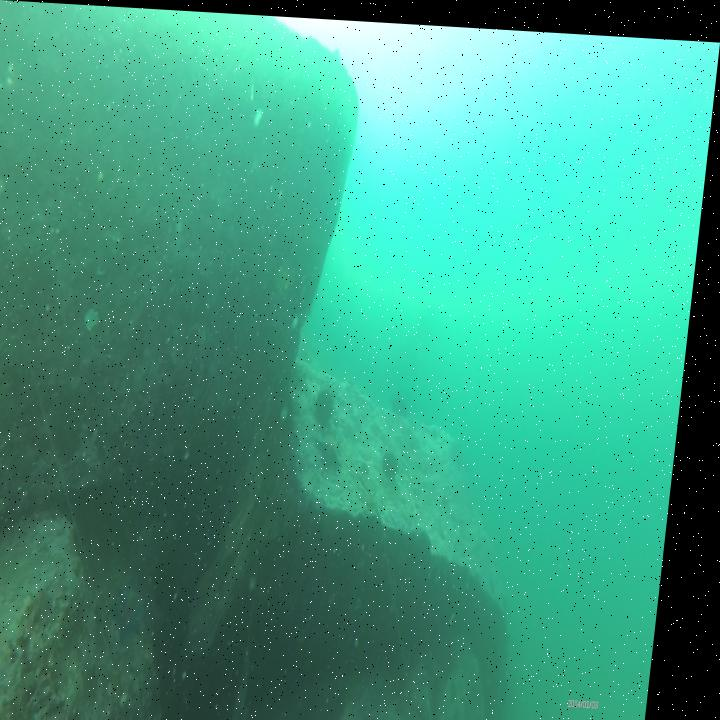echinus: (317, 371, 354, 429), (389, 435, 416, 479)
